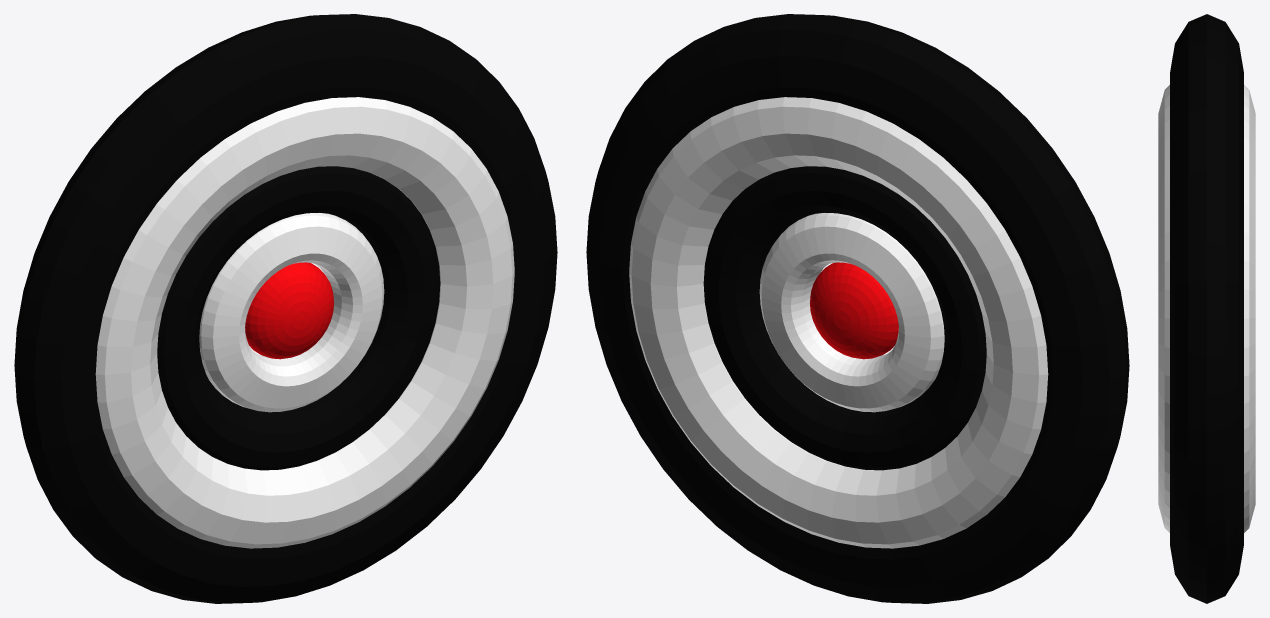
Rendered from Blanco.fbx.
3 views of the same model, side by side, from view 1: azimuth 30°, elevation 25°; view 2: azimuth 150°, elevation 25°; view 3: azimuth 270°, elevation 25° (orthographic). The views are drawn at different scales.
Parts seen in each view (by area): view 1: 25, 50, 100, 250, 500; view 2: 25, 50, 100, 250, 500; view 3: 25, 50.
Boxes of the visible parts, left/top/right/bottom form: 25: left=14, top=14, right=557, bottom=603; 50: left=95, top=97, right=514, bottom=548; 100: left=157, top=166, right=440, bottom=470; 250: left=199, top=213, right=384, bottom=412; 500: left=245, top=262, right=333, bottom=359; 25: left=586, top=14, right=1129, bottom=603; 50: left=629, top=97, right=1048, bottom=548; 100: left=703, top=166, right=986, bottom=470; 250: left=759, top=213, right=944, bottom=412; 500: left=810, top=262, right=898, bottom=359; 25: left=1170, top=14, right=1243, bottom=603; 50: left=1158, top=85, right=1255, bottom=532.
Size of the model in its own units: 283 by 290 by 47.69.
